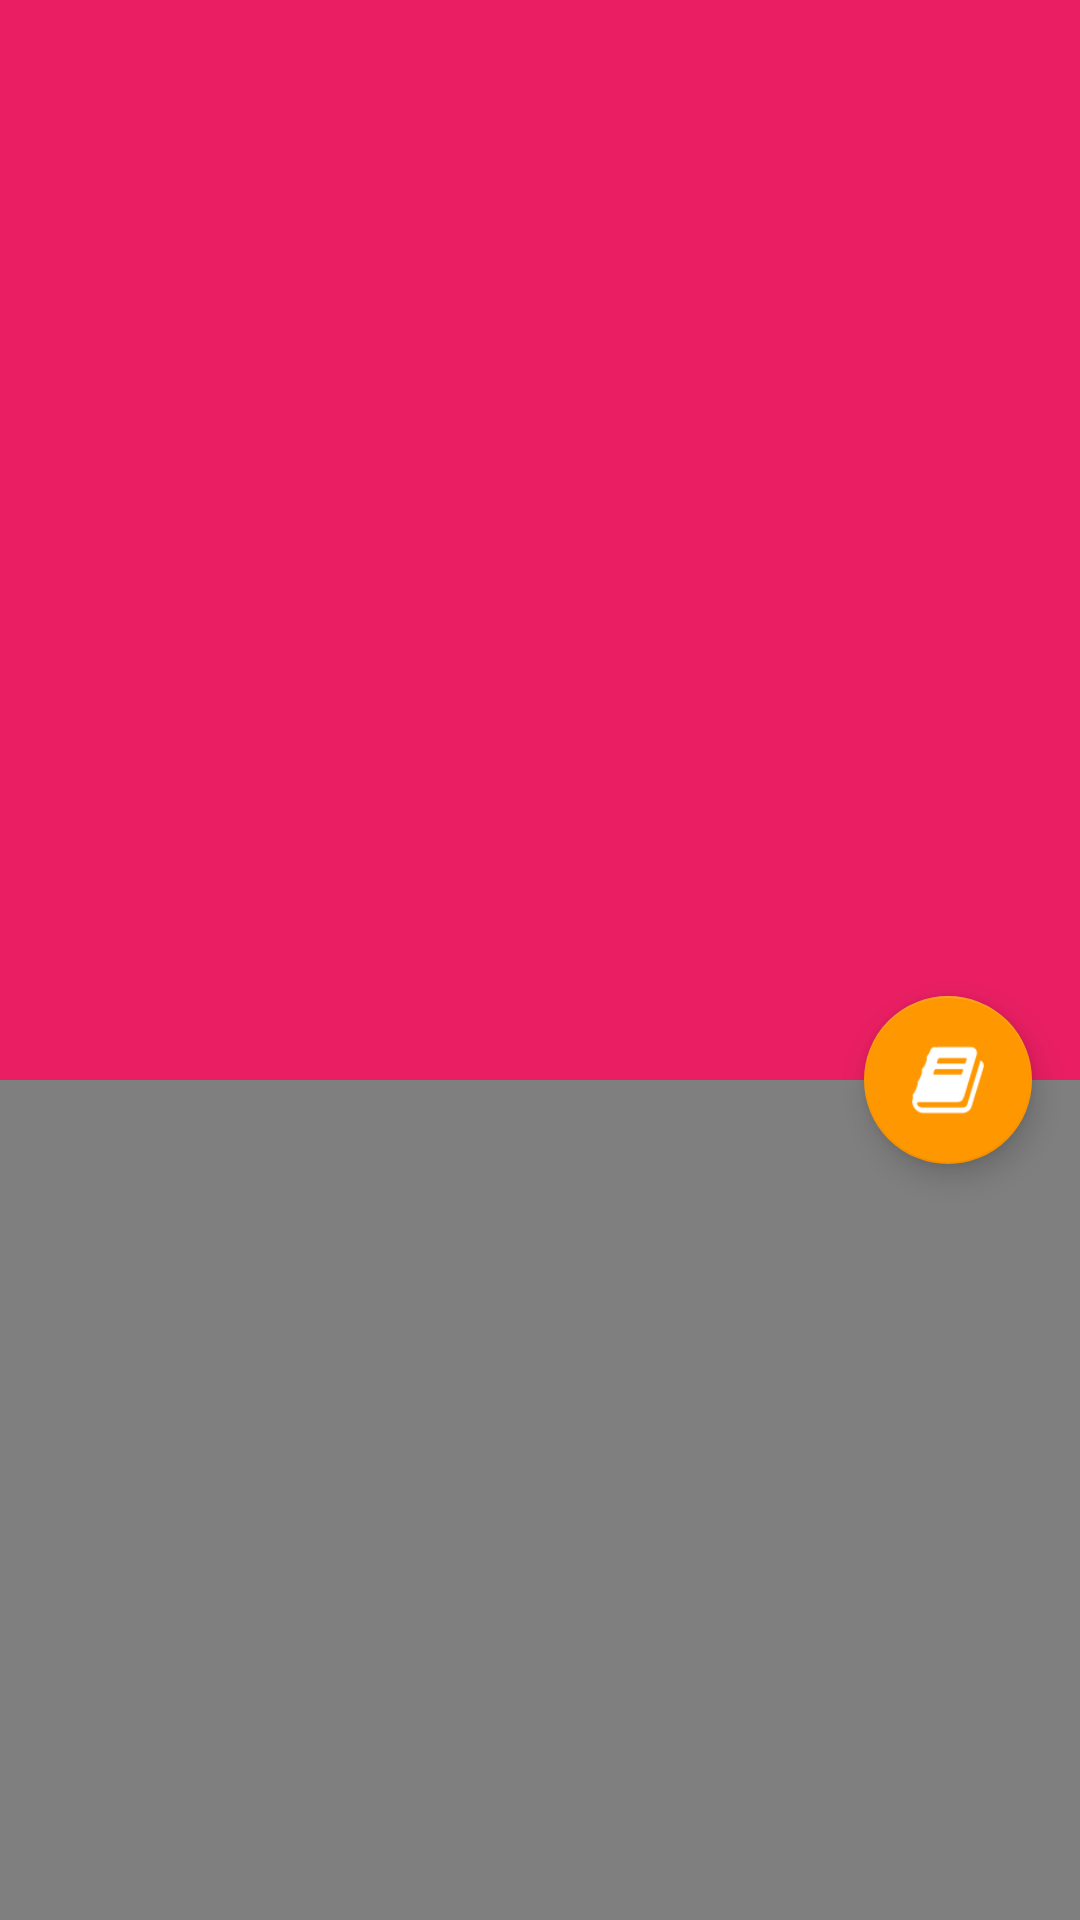

Where to tap for icons on this 1080 × 1920 app screen, as [x,y]:
book: [948,1080]
